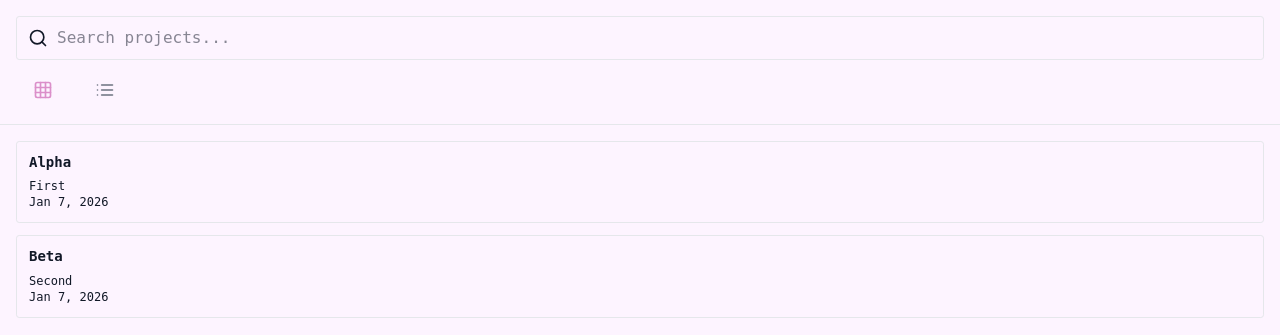
Test case: ProjectManager › renders projects and filters by search
Expected: the heading "Alpha" is shown, [29,154,71,170]
Expected: the heading "Beta" is shown, [29,248,63,264]
Type "Alp" into the field with placeholder "Search projects..." at (640, 38), box [16,16,1264,60]
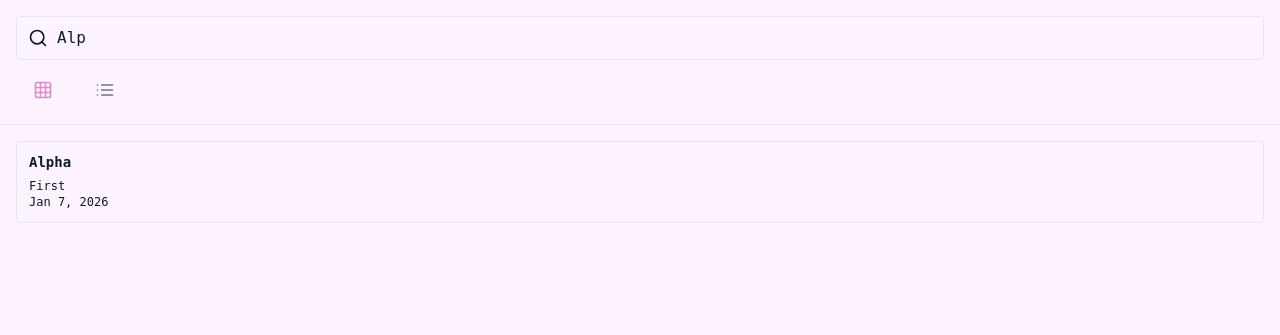
Expected: the heading "Alpha" is shown, [29,154,71,170]
Now the heading "Beta" is gone
